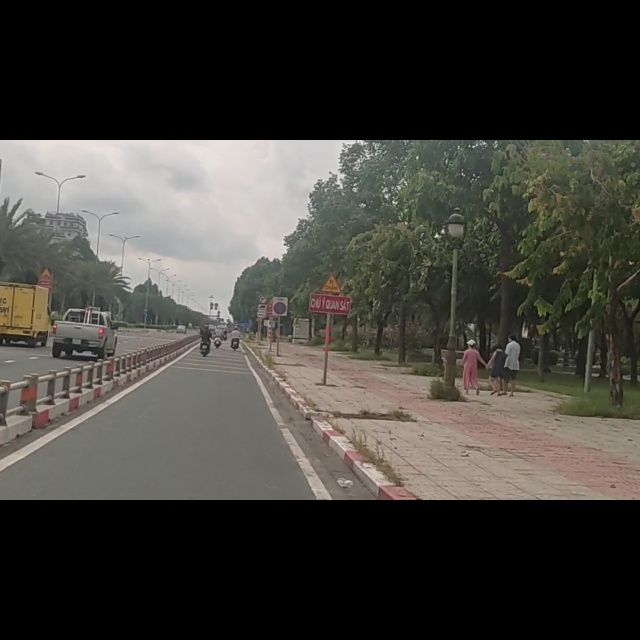bien_nguy_hiem: (319, 238, 345, 275), (271, 277, 289, 314), (258, 277, 267, 292)
